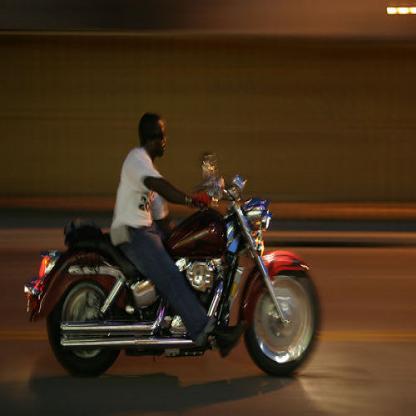motorbike: (24, 152, 324, 382)
person: (108, 109, 221, 349)
